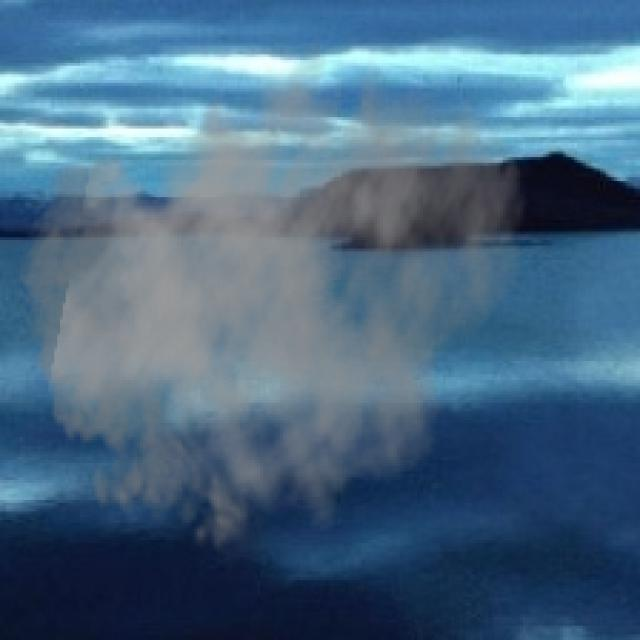smoke: (11, 17, 528, 572)
